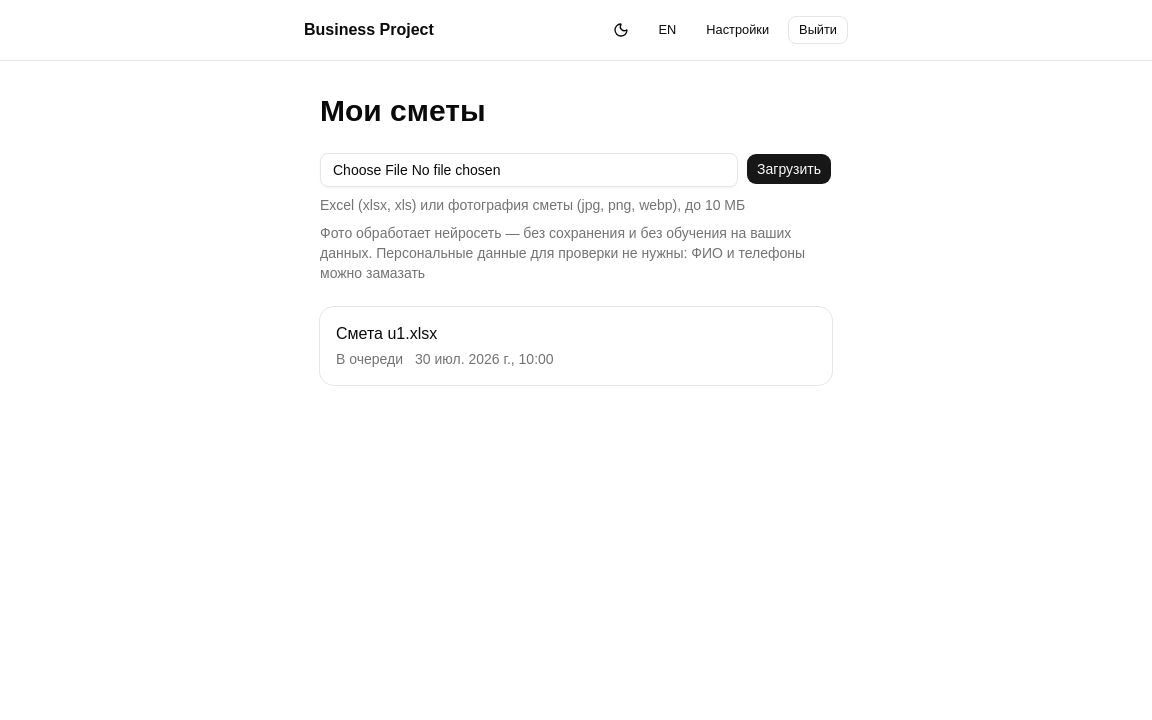
Test: после смены пользователя список берётся заново, а не из чужого кэша
The width and height of the screenshot is (1152, 720).
expect the text "Смета u1.xlsx" is shown: met, box [336,325,437,342]
Step 1. Click the button "Выйти" → (818, 30), box [788,16,848,44]
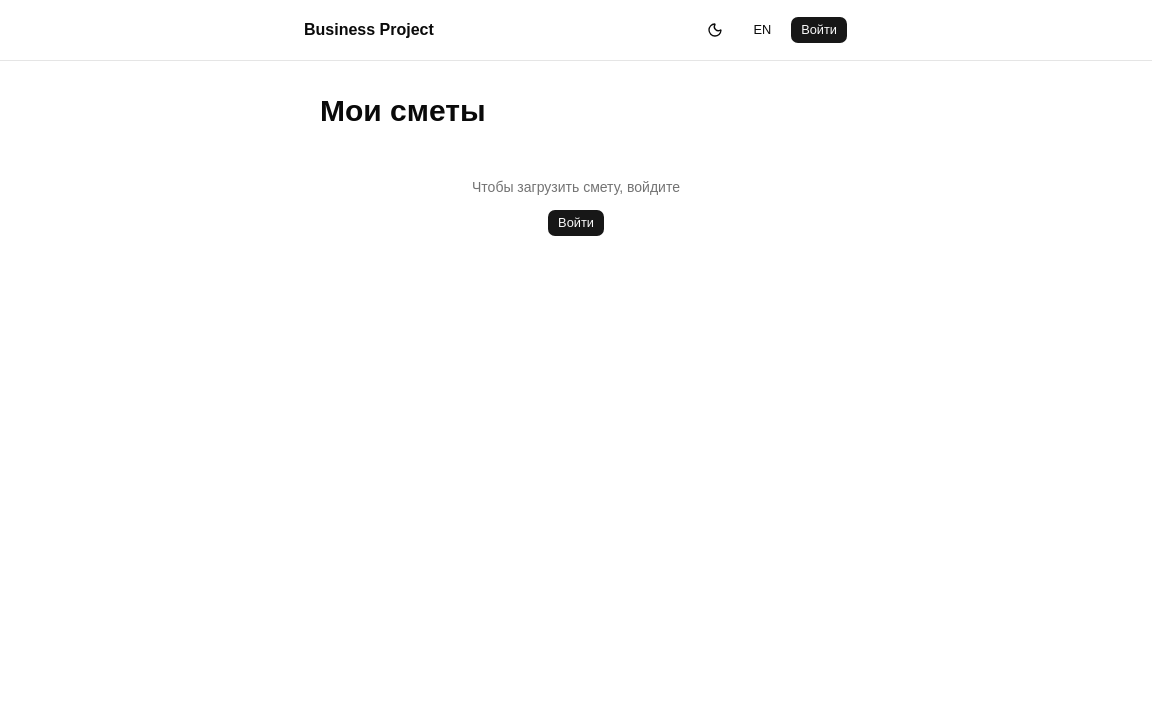
# после выхода попадаем на главную для гостя — оттуда на страницу входа
Step 2. Click the link "Войти" in the row of "Business Project" → (819, 30), box [790,16,848,44]
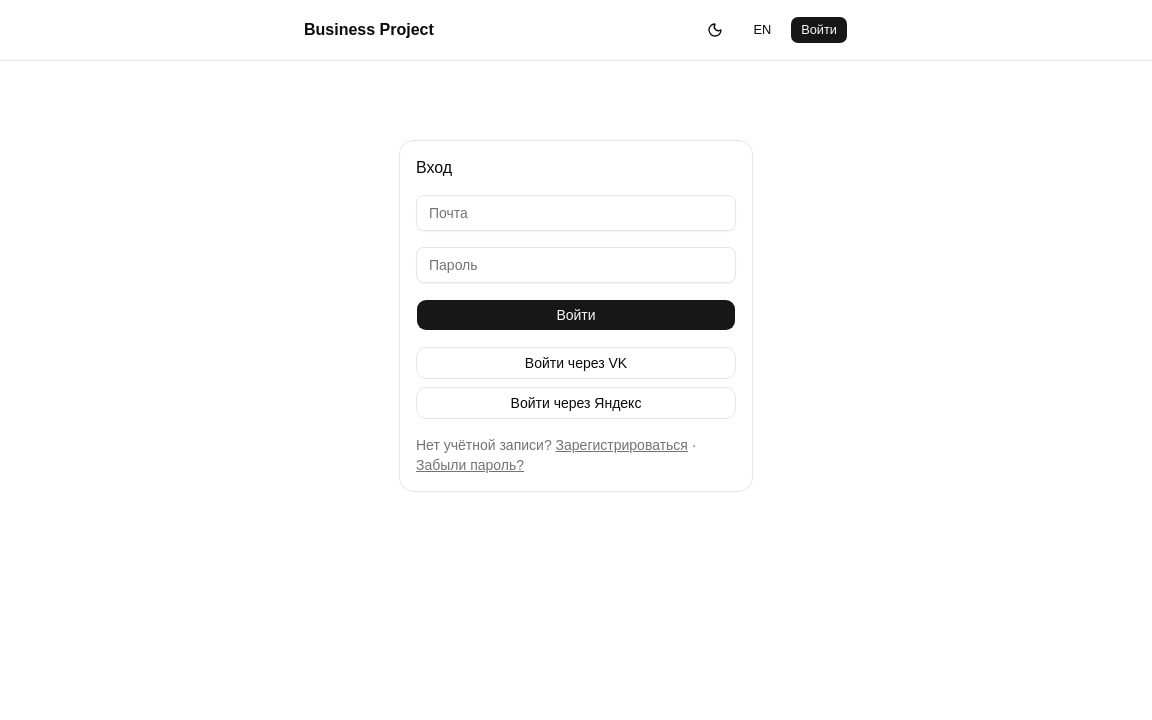
Step 3. Type "second@test.local" into the field with placeholder "Почта" → (576, 213), box [416,195,736,231]
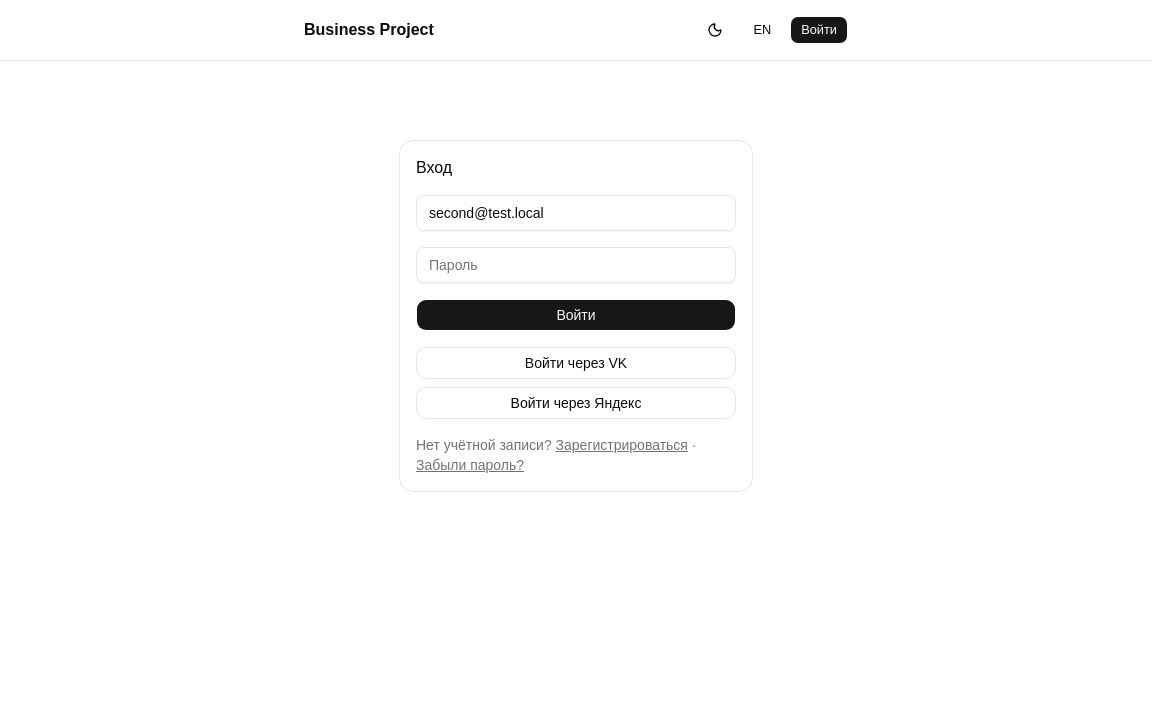
Step 4. Type "correct-horse-9" into the password field with placeholder "Пароль" → (576, 265), box [416,247,736,283]
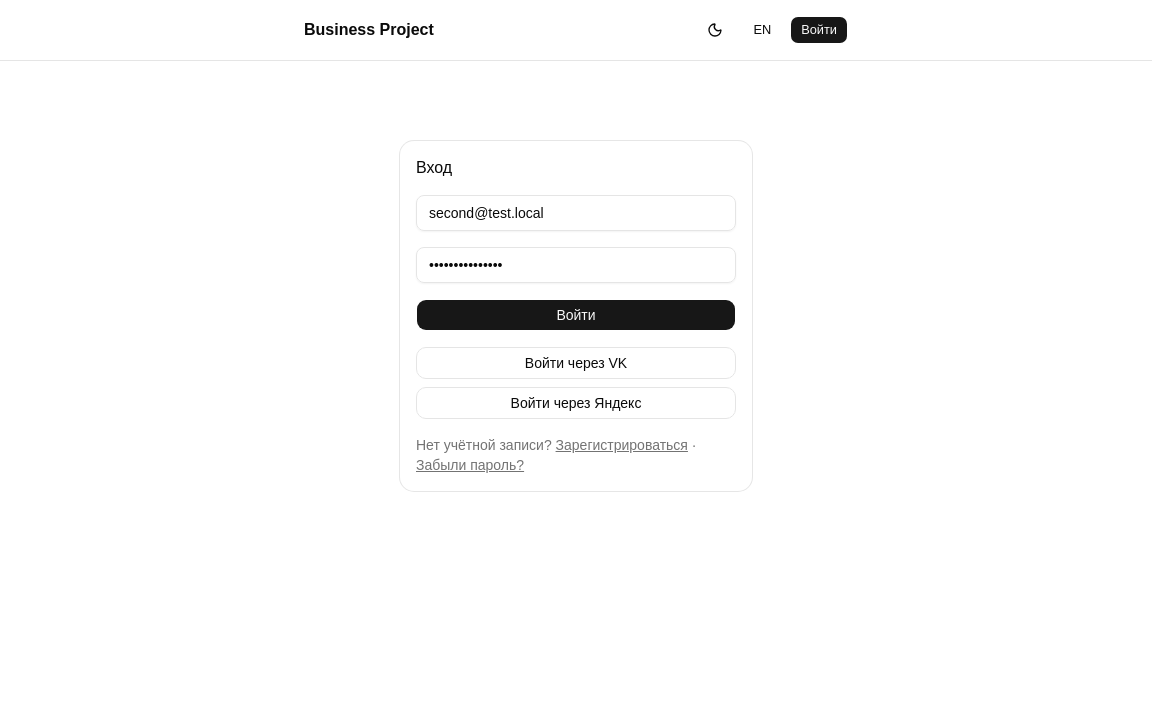
Step 5. Click the button "Войти" → (576, 315), box [416,299,736,331]
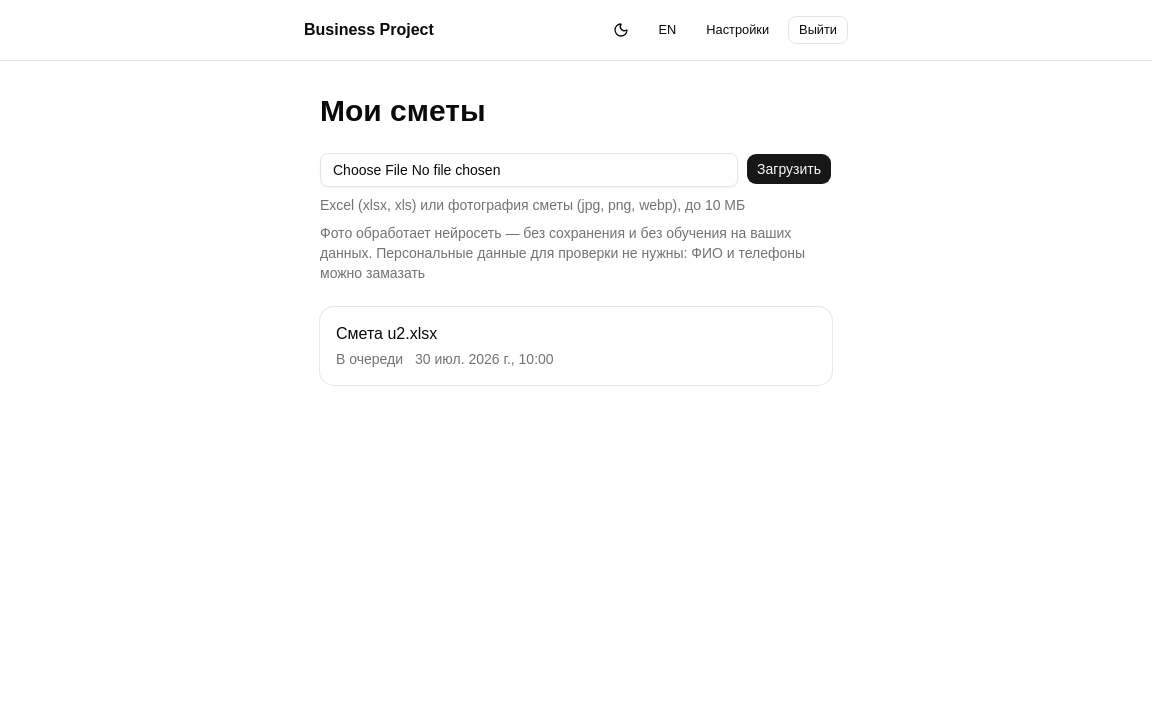
expect the text "Смета u1.xlsx" is not shown: met
expect the text "Смета u2.xlsx" is shown: met, box [336,325,437,342]
